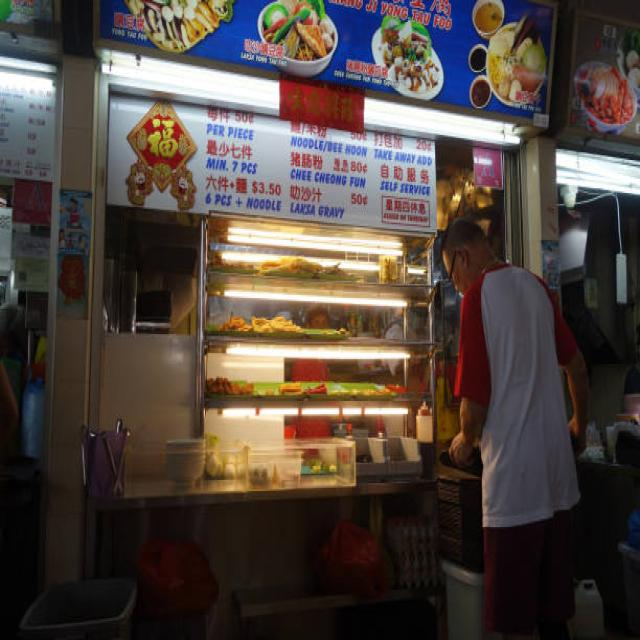Emperan: (70, 0, 590, 640)
